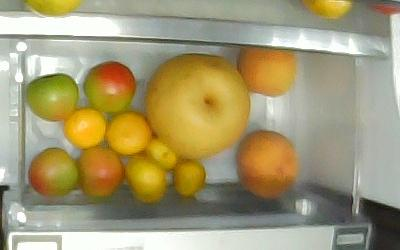peach: (234, 128, 298, 198), (235, 48, 298, 96)
pear: (143, 52, 250, 158)
tangerine: (123, 153, 167, 203), (104, 109, 151, 154), (63, 107, 106, 148), (172, 159, 206, 196), (144, 136, 178, 169)
tomato: (82, 60, 136, 113), (26, 145, 79, 198), (73, 143, 123, 198), (24, 72, 79, 121)
